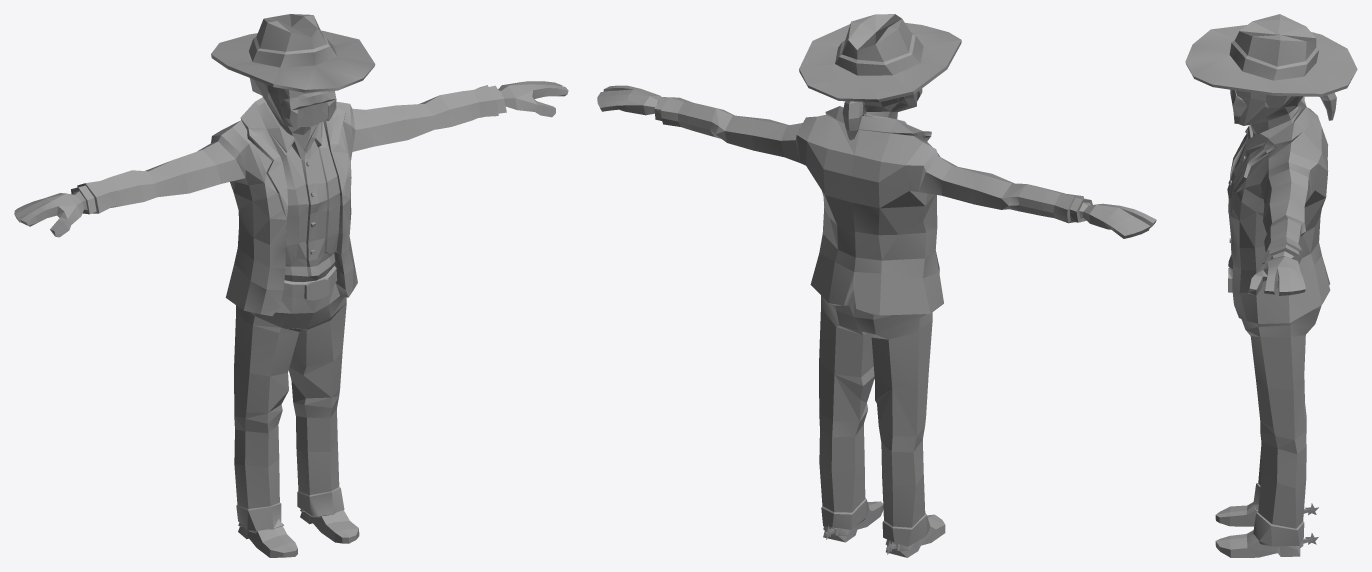
Rendered from cowboybadguy.obj.
3 renders of one model, left to right at view 1: azimuth 30°, elevation 25°; view 2: azimuth 150°, elevation 25°; view 3: azimuth 270°, elevation 25°, orthographic.
Parts seen in each view (by area): view 1: SK_Character_Badguy_01; view 2: SK_Character_Badguy_01; view 3: SK_Character_Badguy_01.
Part boxes in pixels (x1,y1,x2,y2): SK_Character_Badguy_01: [14, 14, 568, 557]; SK_Character_Badguy_01: [597, 14, 1156, 557]; SK_Character_Badguy_01: [1185, 14, 1357, 557].
Size of the model in its own units: 2.05 by 1.84 by 0.562.
Materials: 1 (1 with a texture image).
